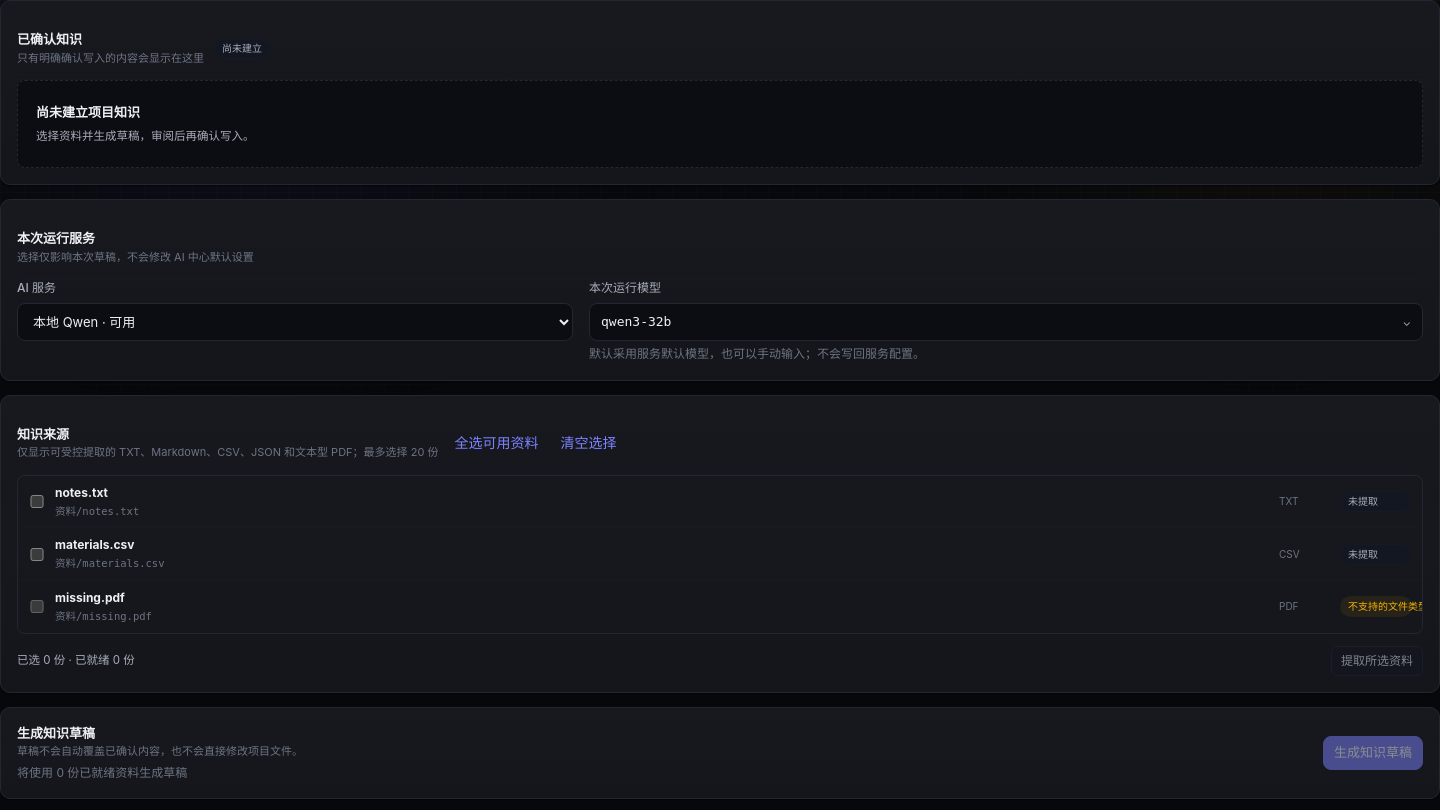
Test: Phase 10.3 project knowledge › disables historical unsupported sources and Draft when no selected source is ready
Check: the checkbox labelled "missing.pdf 资料/missing.pdf PDF 不支持的文件类型" is disabled, box x1=28 y1=600 x2=46 y2=614
Click the button "全选可用资料" at (496, 443), box x1=448 y1=431 x2=544 y2=454
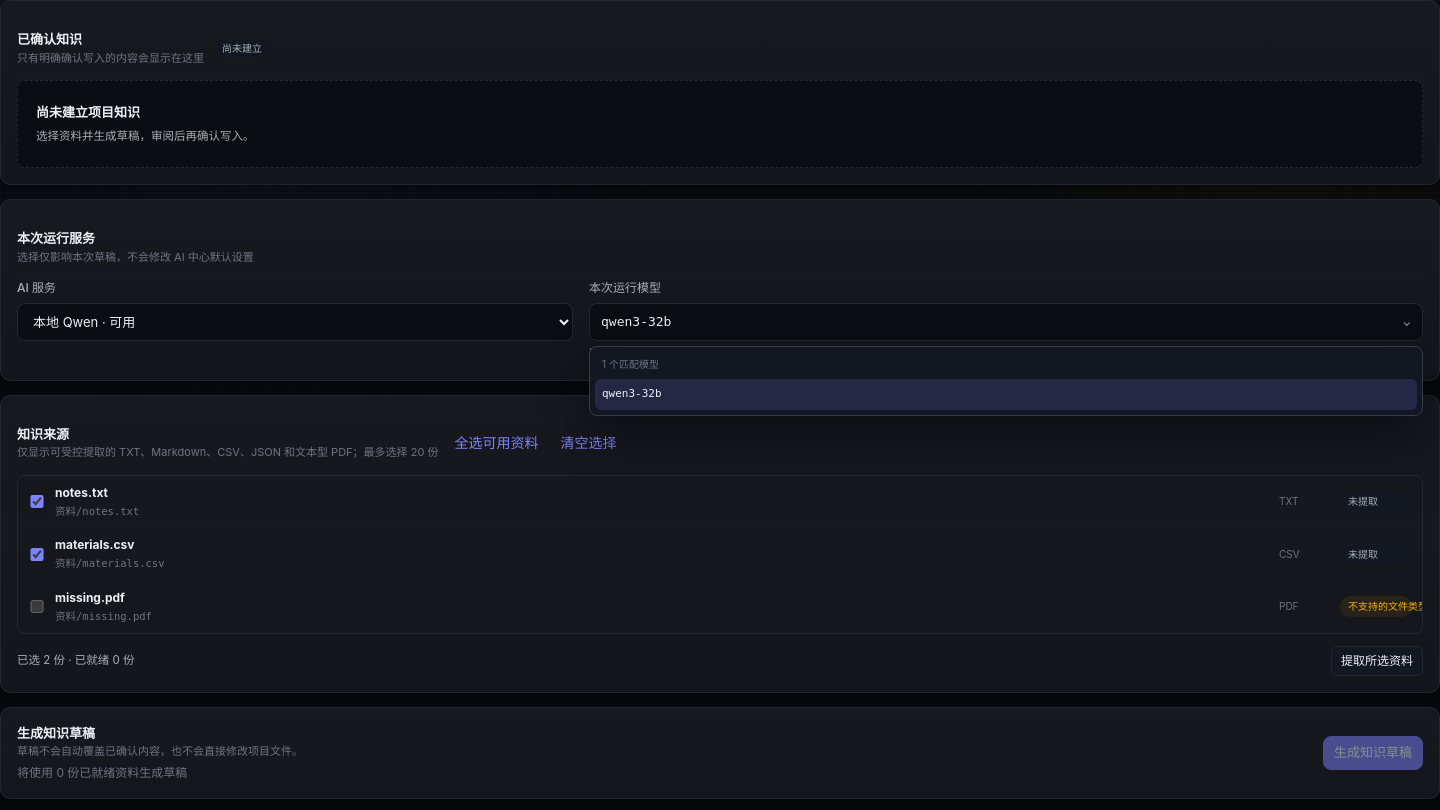
Check: the text "将使用 0 份已就绪资料生成草稿" is shown, box x1=17 y1=765 x2=187 y2=780
Check: the text "已选 2 份 · 已就绪 0 份" is shown, box x1=17 y1=652 x2=134 y2=670
Click the button "清空选择" at (588, 443), box x1=554 y1=431 x2=622 y2=454
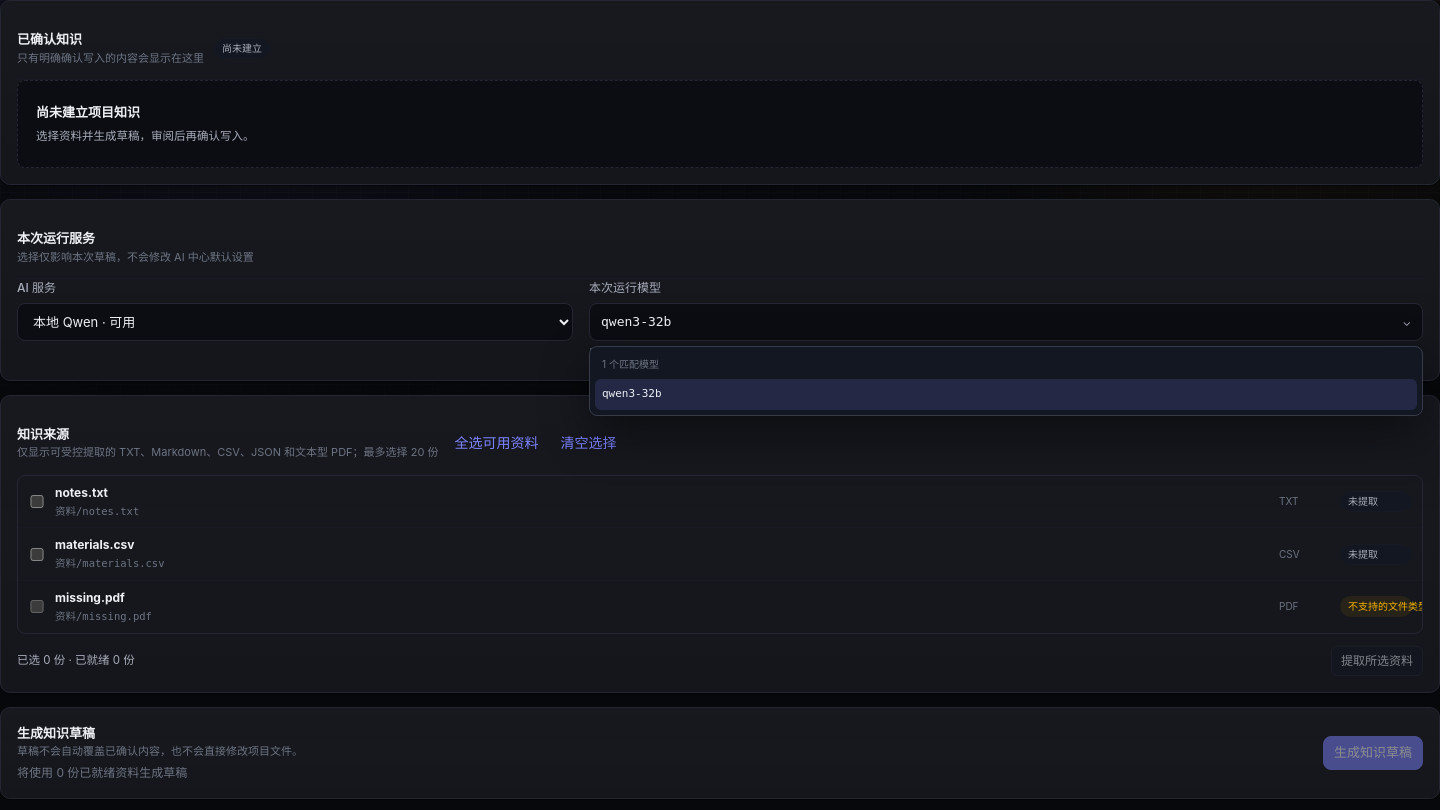
Check: the text "已选 0 份 · 已就绪 0 份" is shown, box x1=17 y1=652 x2=135 y2=670
